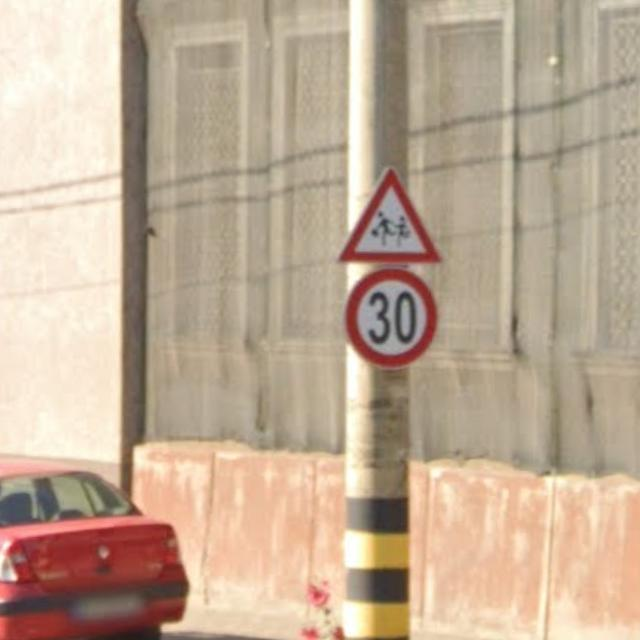forb_speed_over_30: (345, 268, 437, 369)
